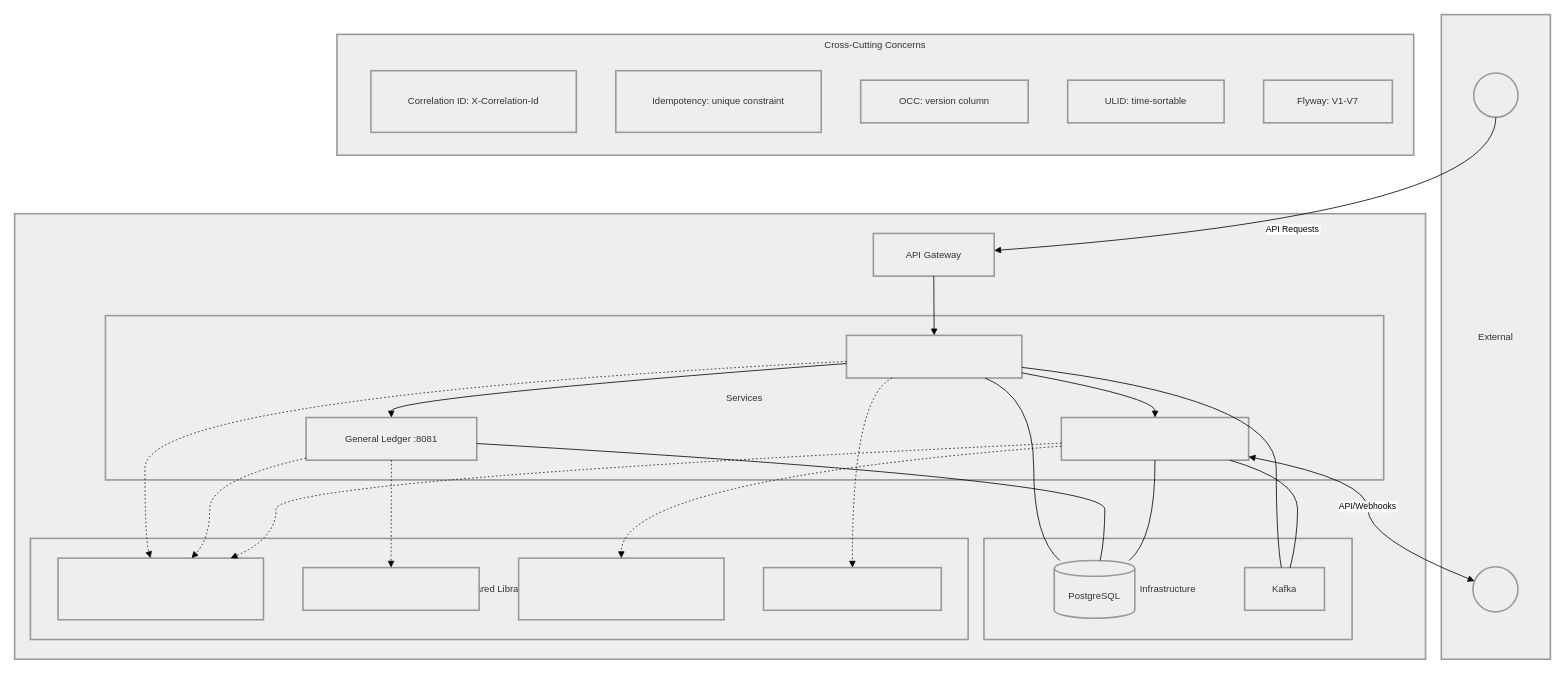
Image size: 1564x673. Some labels were removed from this diagram. Here are the shapes that lost their labels. From the top down, the centre of each, then its label:
At pixel 1495 95: "Client".
At pixel 933 356: "Platform Service :8080".
At pixel 1154 438: "Banking Reconcile :8082".
At pixel 160 588: "hcau-banking-module-common".
At pixel 391 588: "hcau-banking-common".
At pixel 620 588: "hcau-banking-reconcile-common".
At pixel 852 588: "hcau-platform-common".
At pixel 1495 589: "Stripe".
